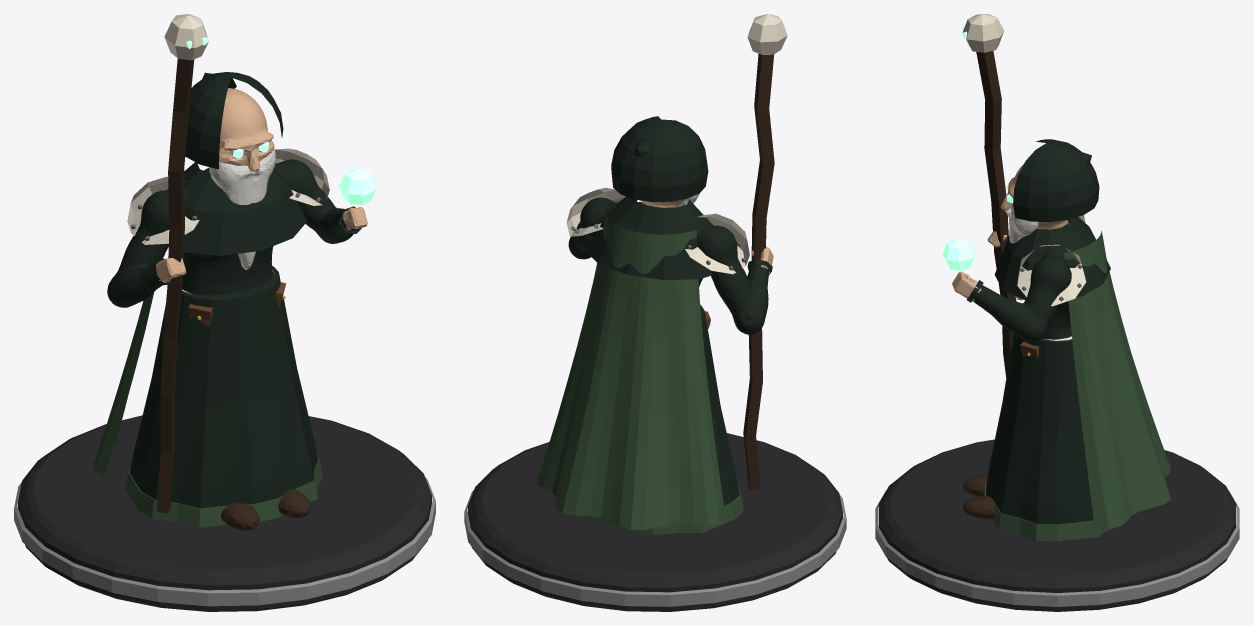
The model's file is necromancer.glb.
The picture shows the model from 3 angles, left to right: view 1: azimuth 30°, elevation 25°; view 2: azimuth 150°, elevation 25°; view 3: azimuth 270°, elevation 25°; orthographic projection. The views are drawn at different scales.
Visible parts, largest first — view 1: necromancer; view 2: necromancer; view 3: necromancer.
Part boxes in pixels (x1,y1,x2,y2): necromancer: (14, 14, 435, 611); necromancer: (464, 14, 846, 611); necromancer: (875, 14, 1239, 611).
Size of the model in its own units: 0.856 by 1.26 by 0.8498.
